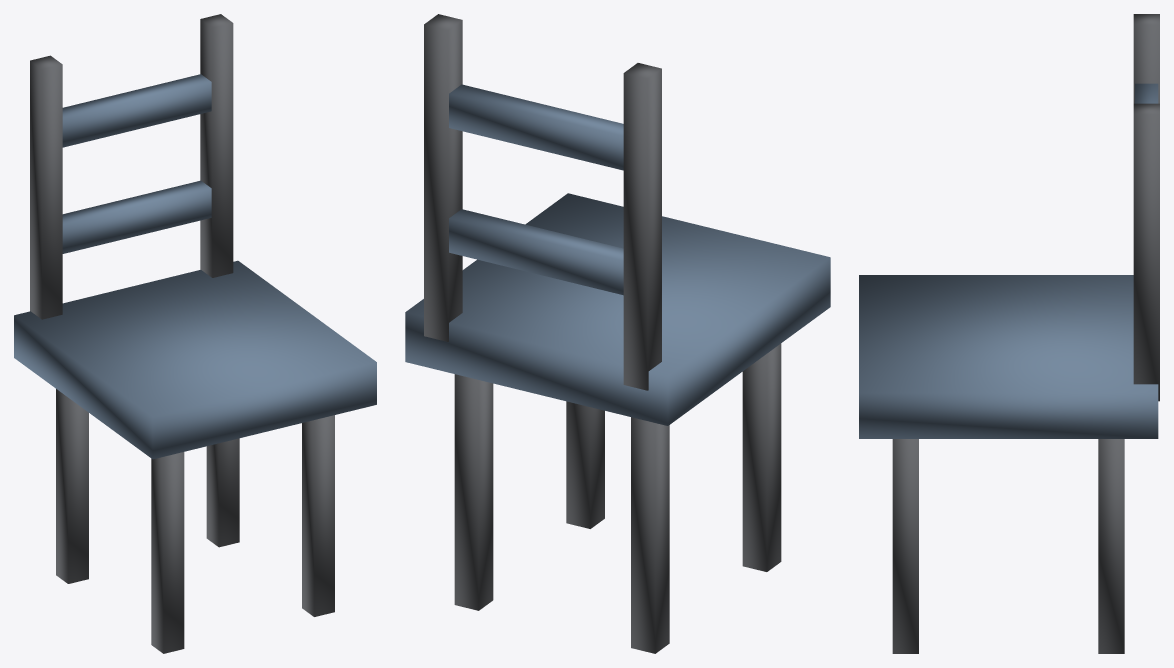
Rendered from courtroom_spectator_chair__compact.glb.
The picture shows the model from 3 angles, left to right: view 1: azimuth 30°, elevation 25°; view 2: azimuth 150°, elevation 25°; view 3: azimuth 270°, elevation 25°; orthographic projection. The views are drawn at different scales.
Parts seen in each view (by area): view 1: world; view 2: world; view 3: world.
Part boxes in pixels (x1,y1,x2,y2): world: [14, 14, 376, 653]; world: [405, 14, 830, 653]; world: [859, 14, 1159, 653].
Bounding box in the file's own units: 0.4099 × 0.8826 × 0.4417.
